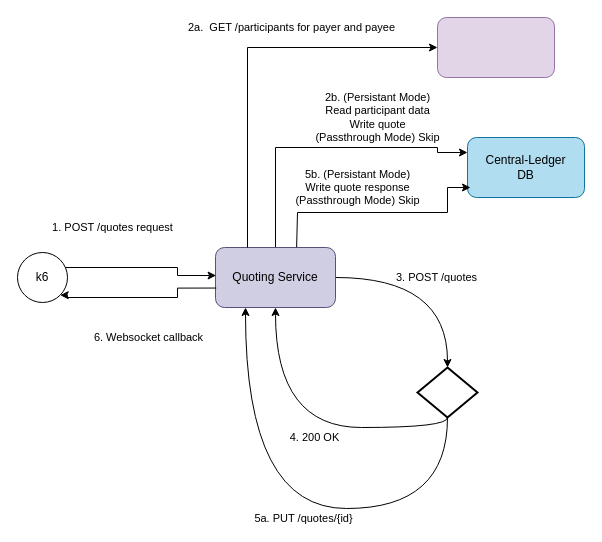
This 602x542 diagram has some shape labels left out. The shapes that lost their labels are listed below. From the top down, each one's centre as x and y in pixels, then its label:
the point at 495,47: Central Ledger Admin Sim
the point at 447,392: Payee Sim
